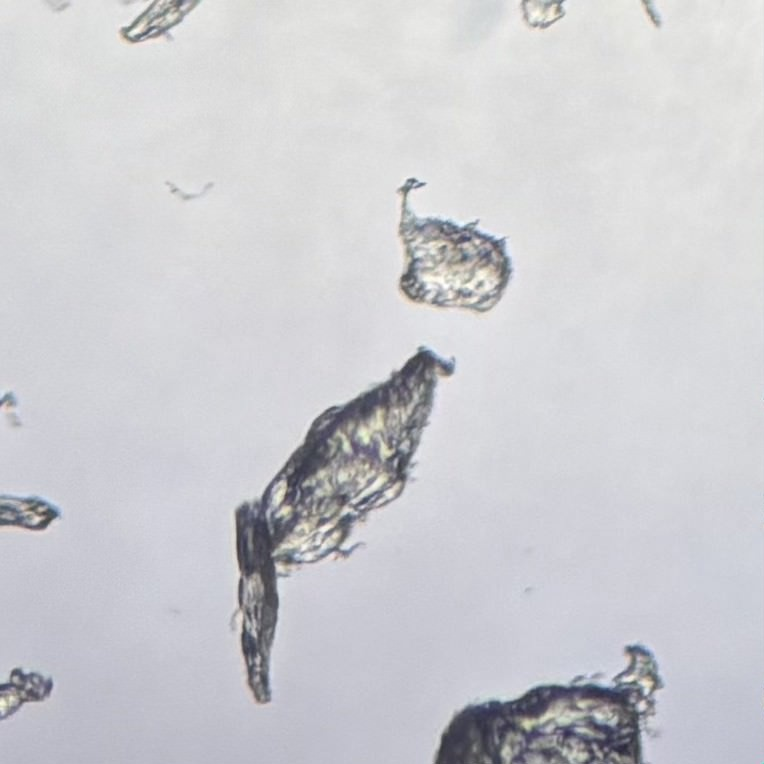microplastic: (229, 341, 456, 707), (428, 644, 665, 764), (395, 174, 513, 315), (113, 1, 203, 42), (1, 665, 54, 720), (1, 495, 64, 534), (519, 1, 568, 31)
